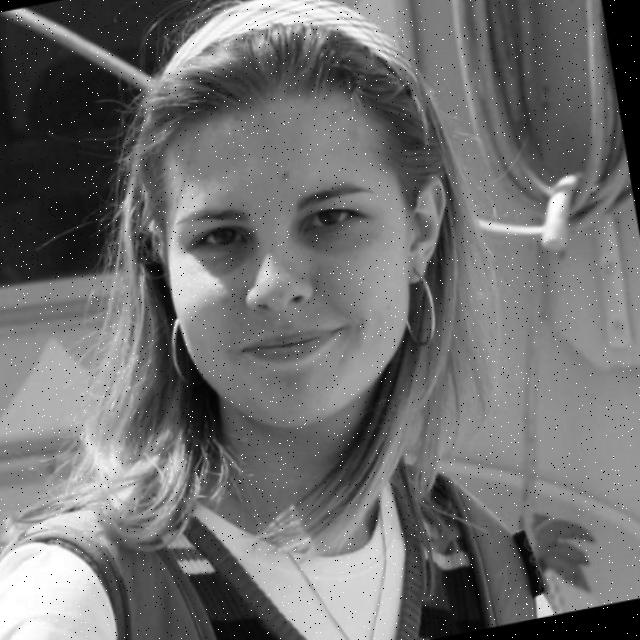puffy_eyes: (300, 223, 369, 257), (195, 243, 253, 276)
